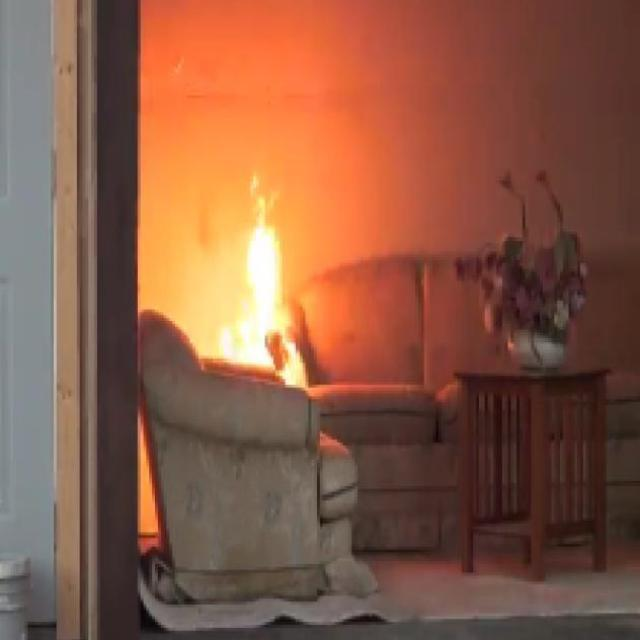smoke: (206, 160, 312, 393)
